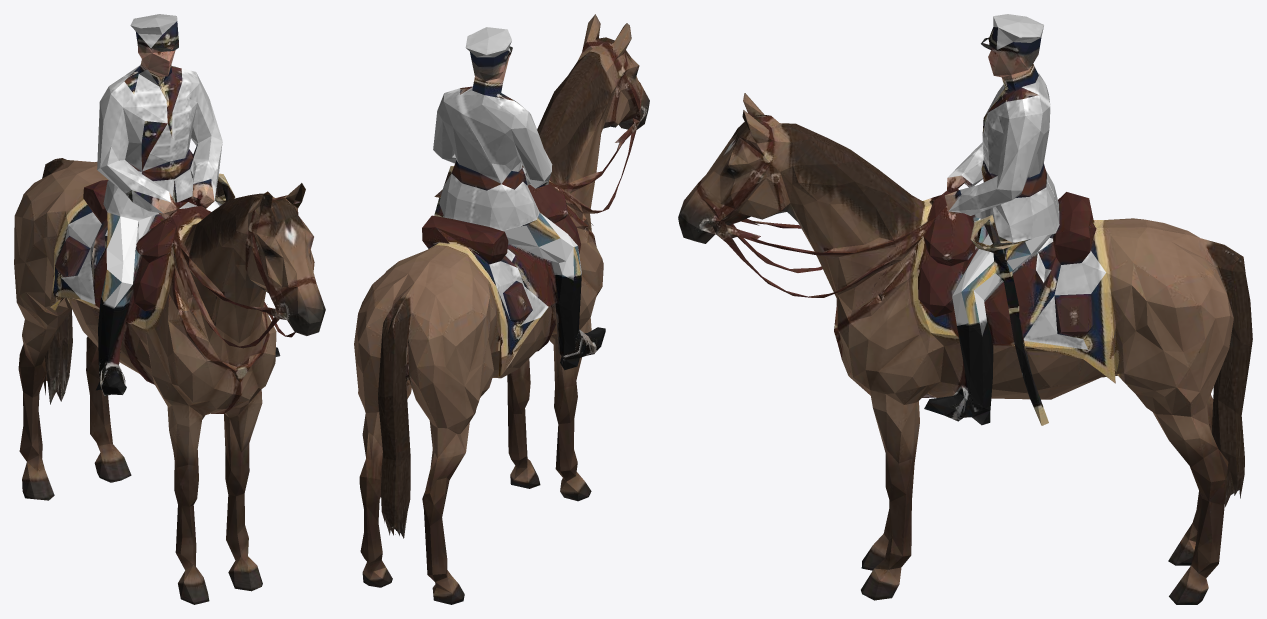
File: realistic-cc0.a8769808caef.cavalry.glb
3 views of the same model, side by side, from view 1: azimuth 30°, elevation 25°; view 2: azimuth 150°, elevation 25°; view 3: azimuth 270°, elevation 25° (orthographic). The views are drawn at different scales.
Parts seen in each view (by area): view 1: cavalry; view 2: cavalry; view 3: cavalry.
Boxes of the visible parts, x1,y1,x2,y2 form: cavalry: [14, 14, 325, 604]; cavalry: [354, 14, 649, 604]; cavalry: [678, 14, 1252, 604].
Size of the model in its own units: 0.842 by 2.5 by 2.33.
2 materials, 2 textured.
